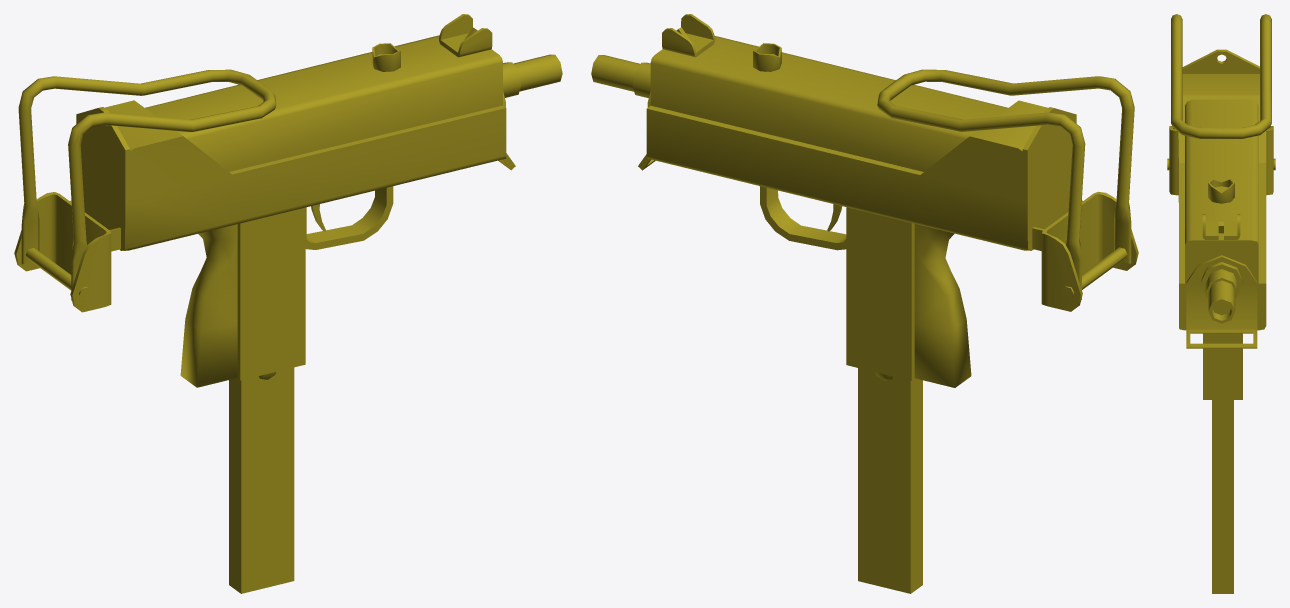
File: uzi_model.FBX
3 renders of one model, left to right at view 1: azimuth 30°, elevation 25°; view 2: azimuth 150°, elevation 25°; view 3: azimuth 270°, elevation 25°, orthographic. The views are drawn at different scales.
Parts seen in each view (by area): view 1: Box007; view 2: Box007; view 3: Box007.
Boxes of the visible parts, x1,y1,x2,y2 form: Box007: [14, 14, 562, 593]; Box007: [591, 14, 1138, 593]; Box007: [1167, 14, 1275, 593].
Size of the model in its own units: 57.67 by 57.57 by 11.72.
